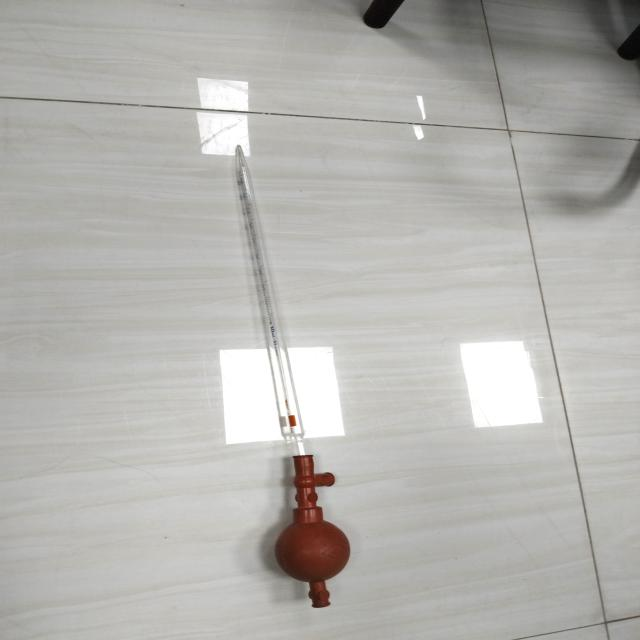Volumetric_Pipet: (200, 128, 371, 617)
